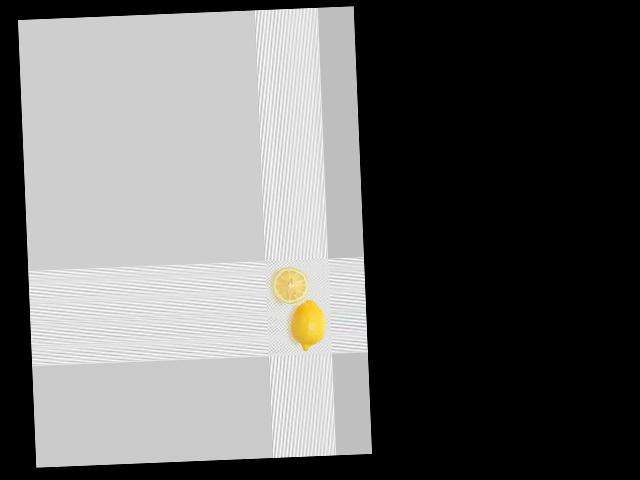lemon: (291, 293, 330, 350)
